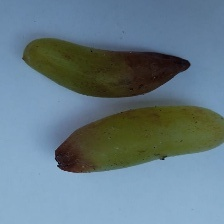grapes: (30, 44, 183, 208)
